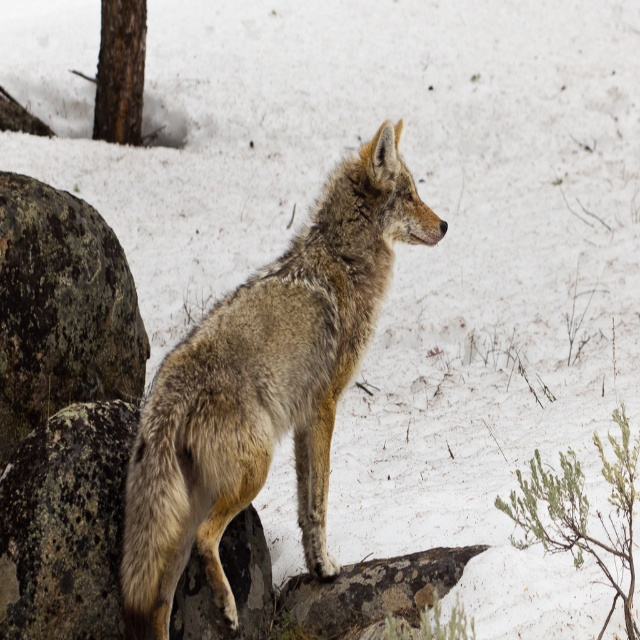Fox: (115, 110, 451, 640)
